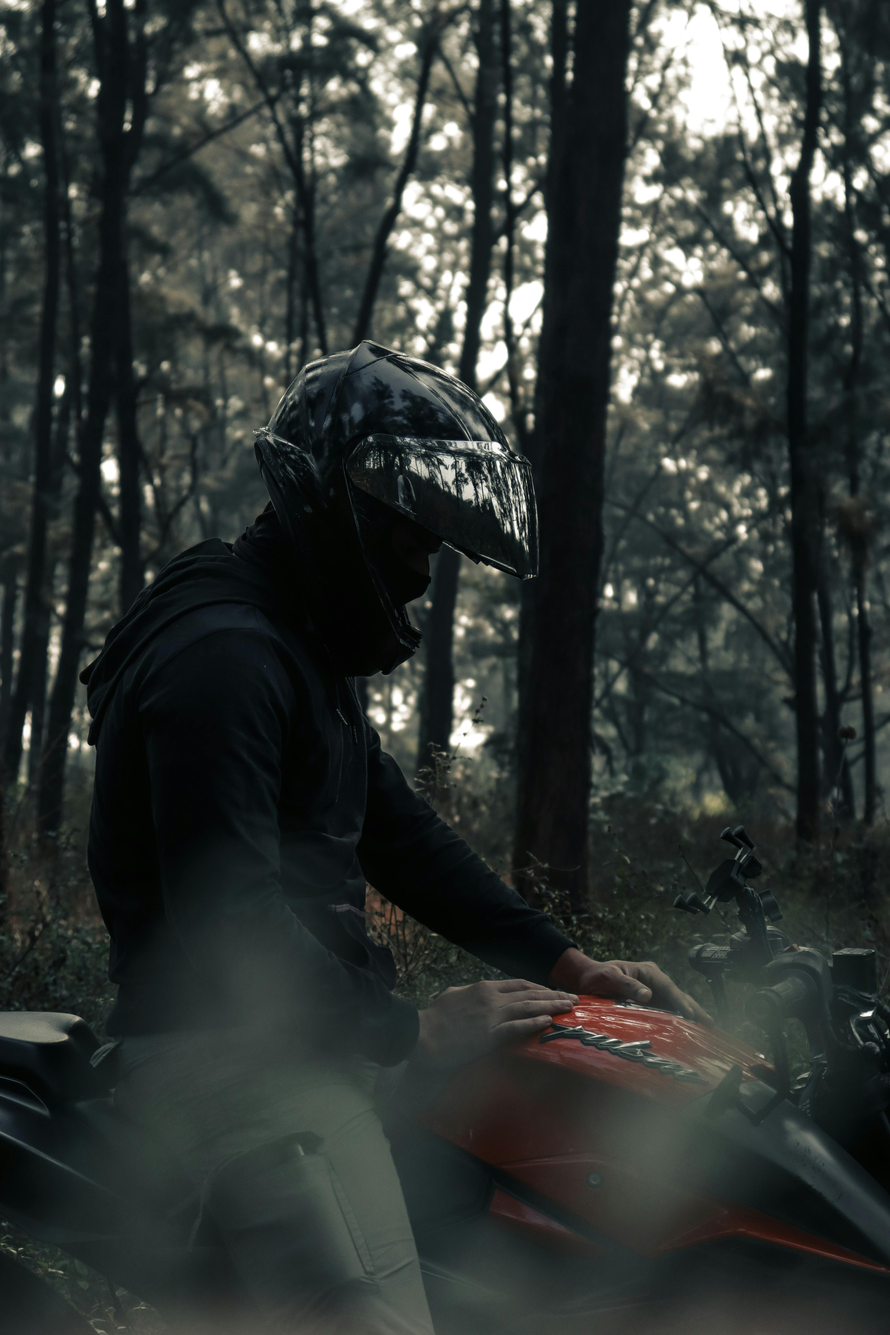helmets: (236, 328, 516, 683), (512, 684, 537, 697), (537, 684, 539, 685)
